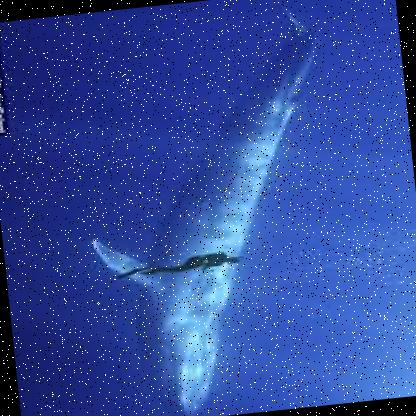blue_whale: (75, 26, 363, 415)
